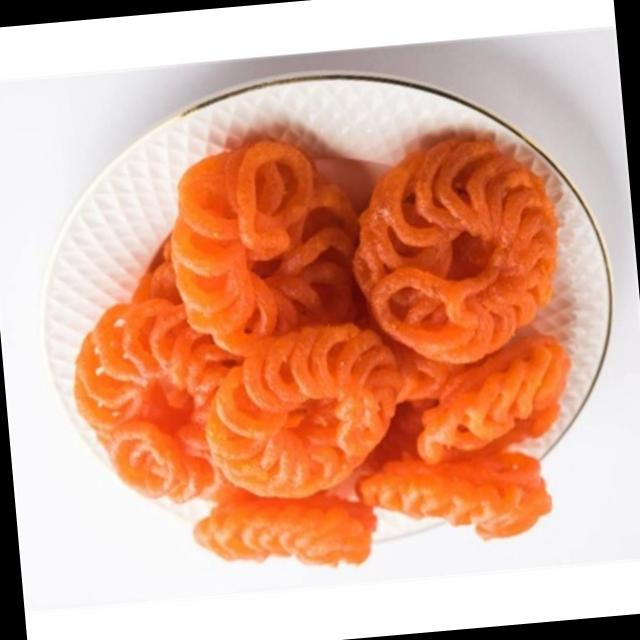jalebi: (64, 124, 586, 571)
